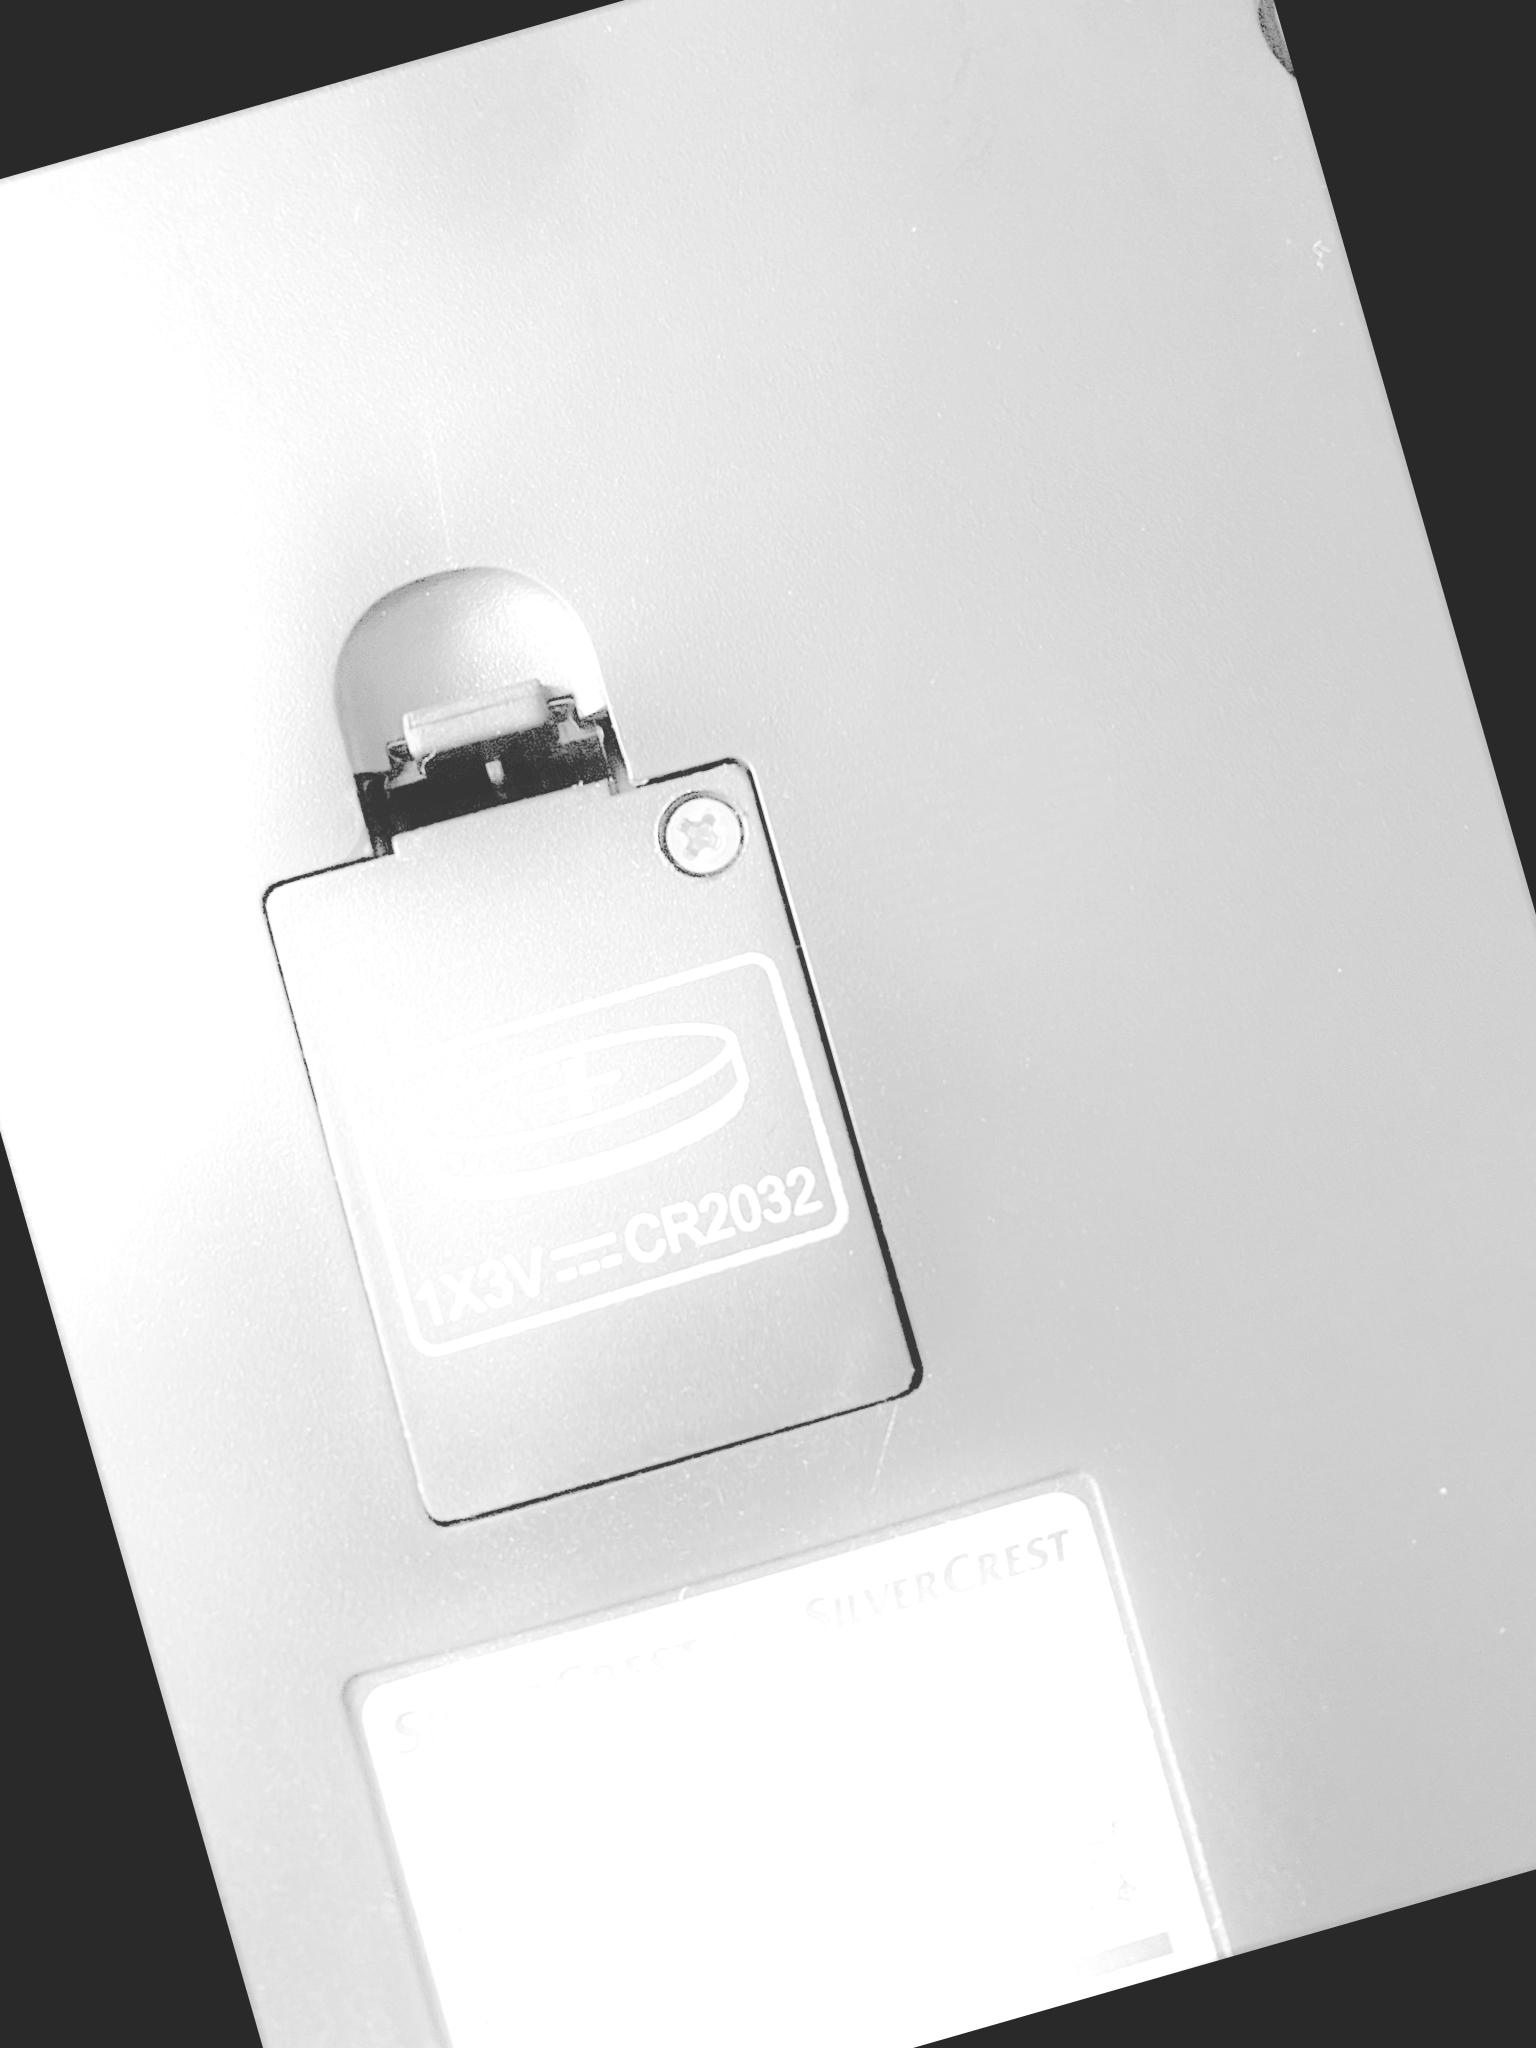philips-PZ: (645, 780, 757, 889)
